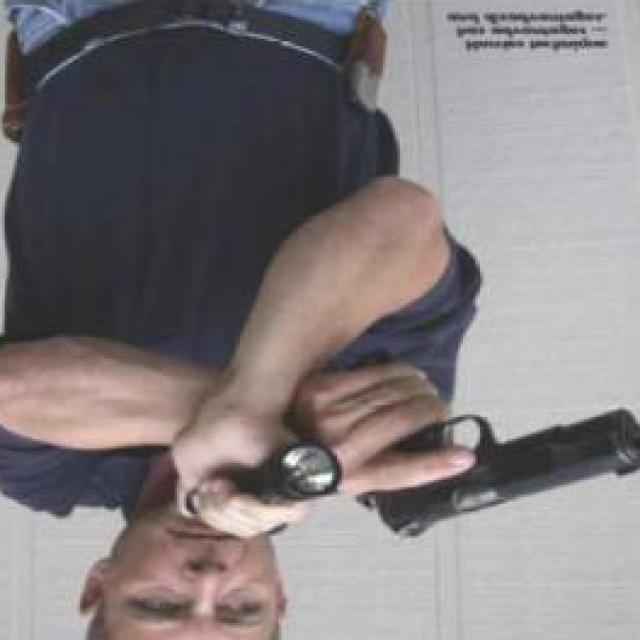pistol: (322, 342, 640, 538)
